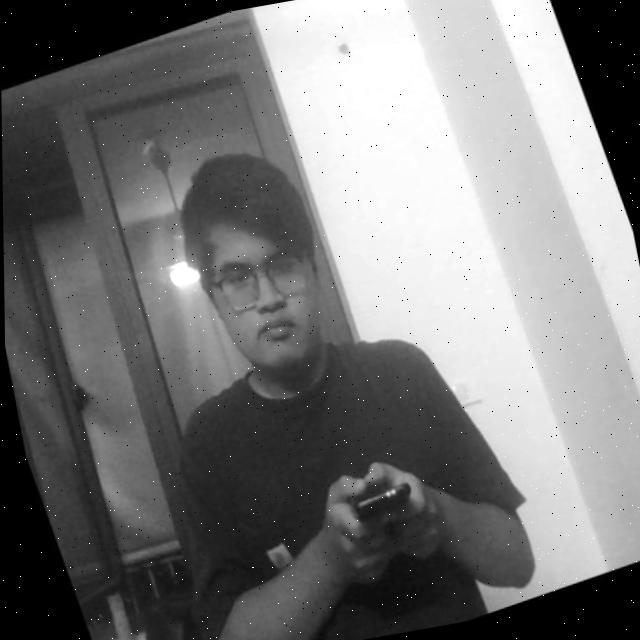phone: (329, 471, 425, 544)
